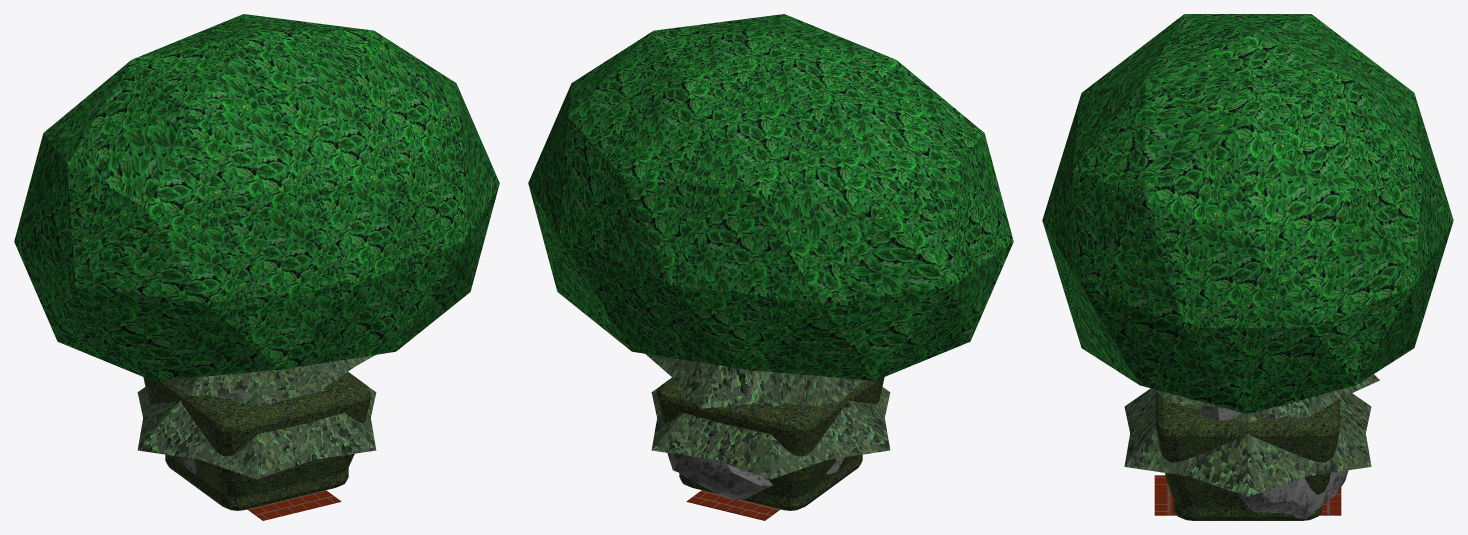
Rendered from feature_tiles.glb.
The picture shows the model from 3 angles, left to right: view 1: azimuth 30°, elevation 25°; view 2: azimuth 150°, elevation 25°; view 3: azimuth 270°, elevation 25°; orthographic projection. The views are drawn at different scales.
Parts seen in each view (by area): view 1: leafy_tree, evergreen_tree, leafy_bush, brick_path; view 2: leafy_tree, evergreen_tree, leafy_bush, rock, brick_path; view 3: leafy_tree, evergreen_tree, leafy_bush, rock, brick_path.
Boxes of the visible parts, x1,y1,x2,y2 form: leafy_tree: (14, 14, 499, 380); evergreen_tree: (137, 355, 376, 479); leafy_bush: (143, 372, 371, 510); brick_path: (247, 490, 341, 520); leafy_tree: (528, 14, 1013, 380); evergreen_tree: (645, 354, 890, 479); leafy_bush: (656, 377, 884, 510); rock: (667, 453, 844, 500); brick_path: (686, 490, 780, 520); leafy_tree: (1042, 14, 1453, 414); evergreen_tree: (1124, 374, 1379, 496); leafy_bush: (1156, 391, 1339, 520); rock: (1201, 405, 1348, 518); brick_path: (1154, 475, 1341, 515).
Size of what is drawn, in the model's own units: 5.43 by 5.51 by 4.41.
17 materials, 12 textured.
